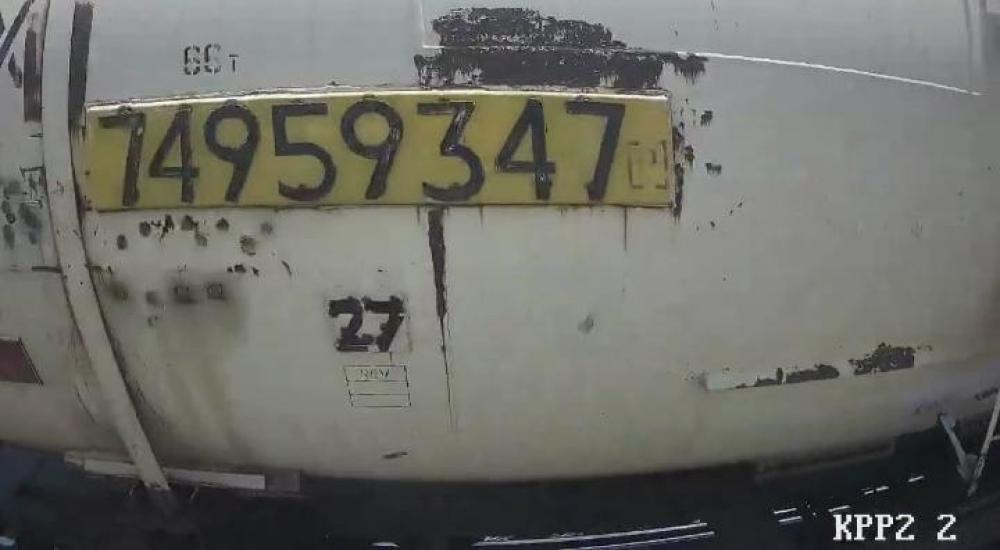Wagon-number: (96, 96, 635, 212)
